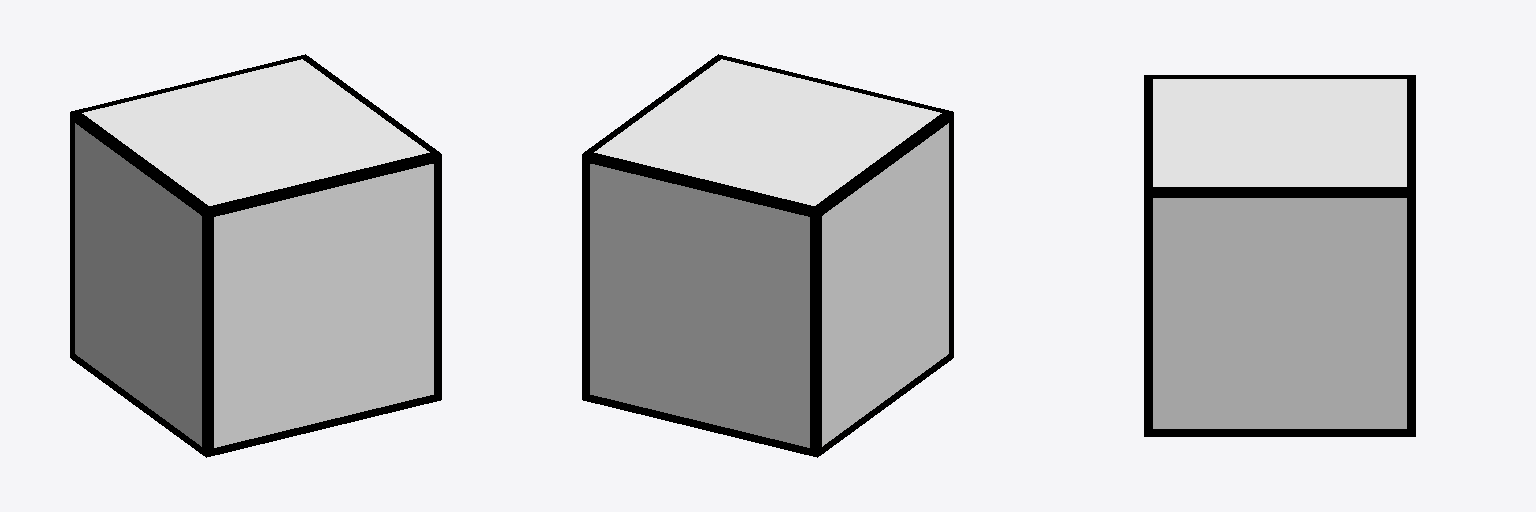
3 views of the same model, side by side, from view 1: azimuth 30°, elevation 25°; view 2: azimuth 150°, elevation 25°; view 3: azimuth 270°, elevation 25° (orthographic).
Parts seen in each view (by area): view 1: Cube; view 2: Cube; view 3: Cube.
Boxes of the visible parts, box(x1,y1,x2,y2) form: Cube: box(70, 54, 441, 457); Cube: box(582, 54, 953, 457); Cube: box(1144, 75, 1415, 436).
Size of the model in its own units: 1 by 1 by 1.
1 materials, 1 textured.